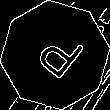P_SW: (25, 24, 85, 86)
